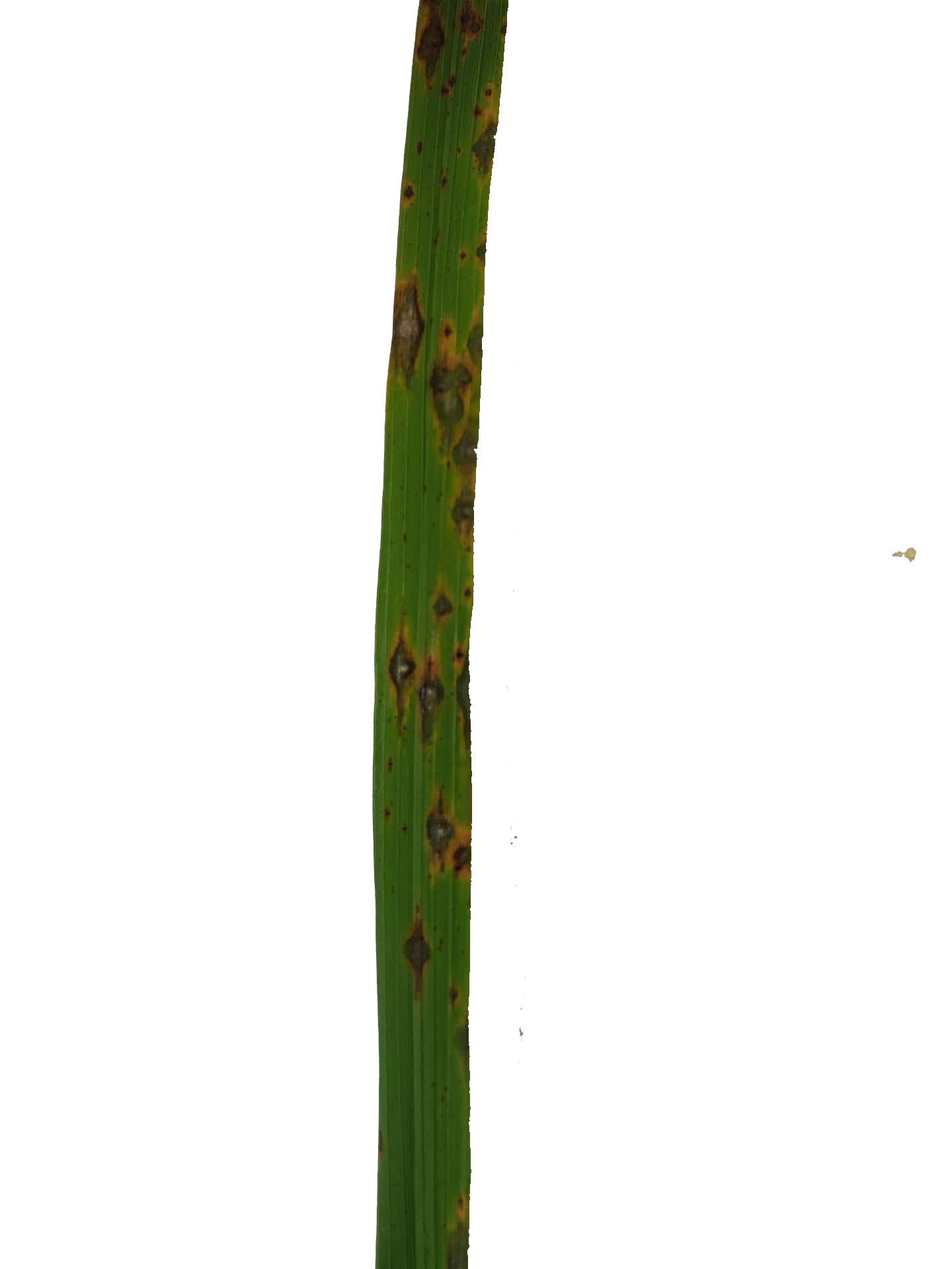Rice blast: (420, 311, 475, 434), (388, 267, 428, 388), (423, 794, 469, 895), (381, 623, 422, 732), (408, 652, 447, 750), (415, 0, 450, 89), (401, 917, 433, 1012), (474, 104, 499, 188), (455, 647, 472, 761), (453, 486, 477, 556), (453, 0, 488, 47), (450, 427, 476, 481), (425, 593, 458, 624)
